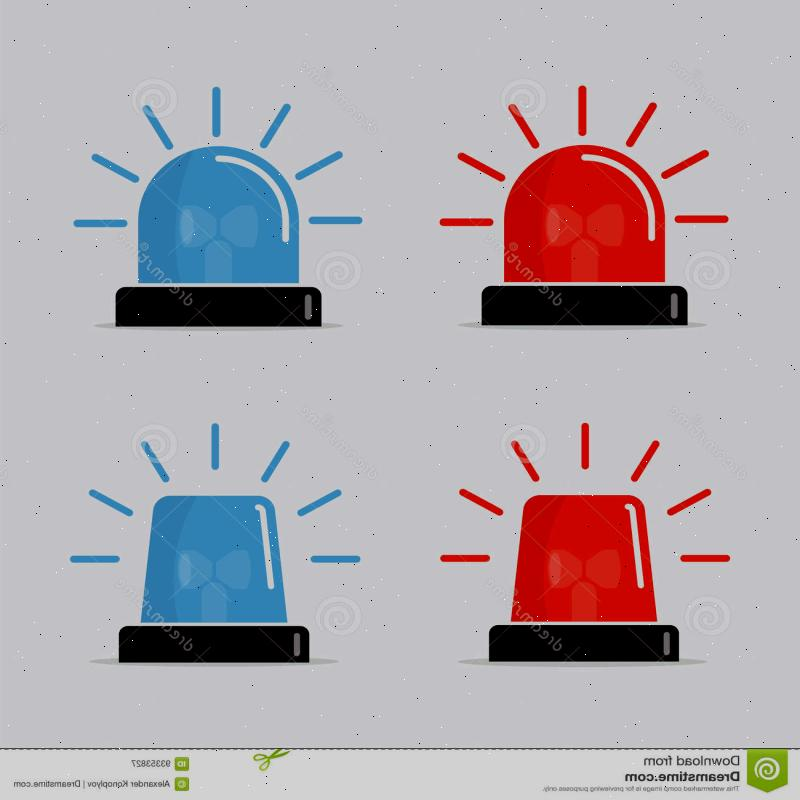AmbulanceSiren: (462, 110, 707, 357), (469, 422, 689, 690), (107, 125, 320, 390), (90, 474, 316, 698)
